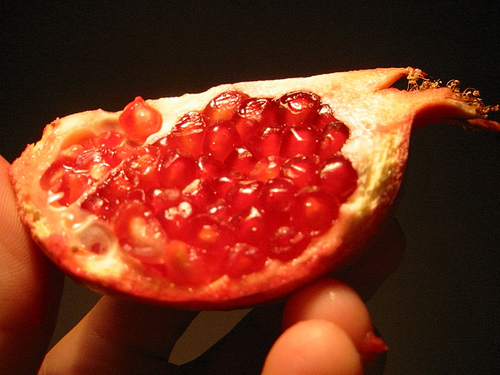pomogranate: (9, 68, 499, 308)
